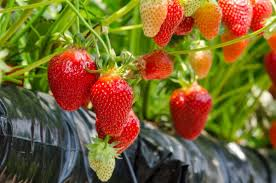ripe: (45, 46, 99, 111), (87, 72, 139, 137), (168, 81, 214, 143), (90, 108, 144, 156), (136, 47, 175, 79), (146, 14, 186, 45), (222, 27, 253, 63), (220, 13, 254, 37), (264, 29, 275, 83), (173, 16, 195, 37)
unripe: (87, 139, 116, 181), (187, 40, 216, 81), (191, 14, 222, 40), (138, 14, 169, 38)
